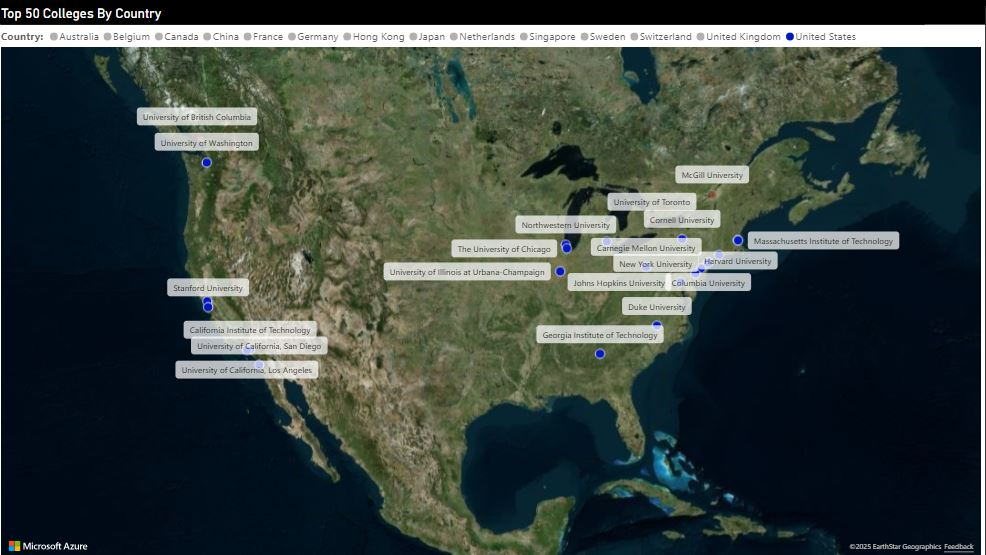

Layout of this report page (visuals, bound fields, positions):
{"tool":"powerbi","page":{"name":"Top 50","canvas":[1280,720],"ordinal":0},"visuals":[{"type":"map","title":"Top 50 Colleges By Country","fields":{"Series":["TIMES_WorldUniversityRankings_2 (3).location"],"Category":["TIMES_WorldUniversityRankings_2 (3).name"]},"box":[0,10,1270,710],"z":0}]}

Visuals, with their boxes in screenshot pixels (x1, y1, x2, y2), scaled from the page's 1280x720 canvas onto the 986x555 screenshot:
"Top 50 Colleges By Country" map: 0:8:978:554
